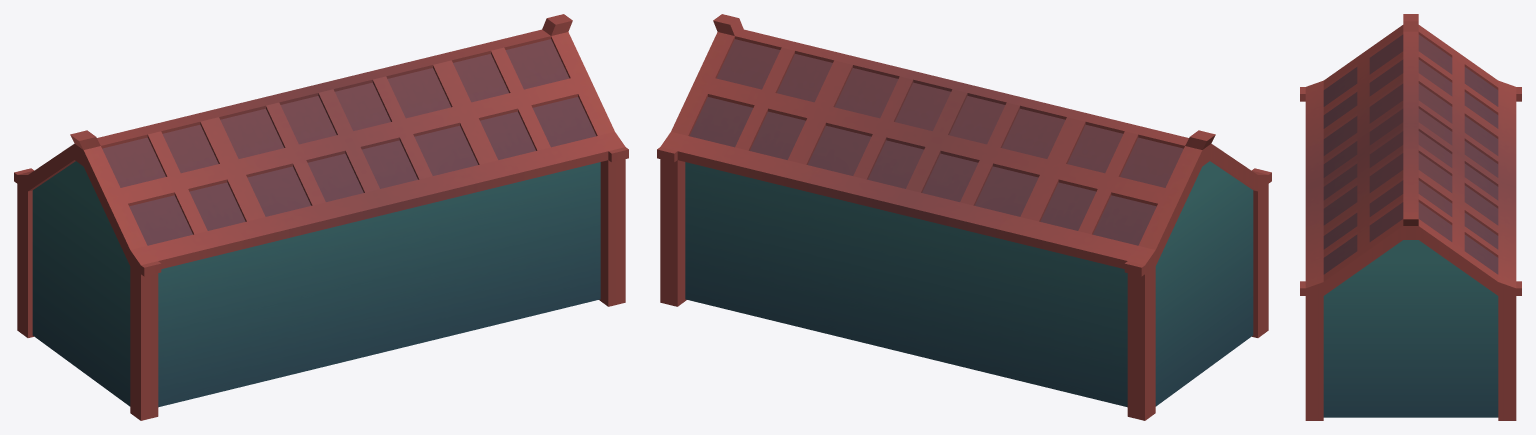
Rendered from ItemProps_BiggerLongerHouse.fbx.
The picture shows the model from 3 angles, left to right: view 1: azimuth 30°, elevation 25°; view 2: azimuth 150°, elevation 25°; view 3: azimuth 270°, elevation 25°; orthographic projection. The views are drawn at different scales.
Visible parts, largest first — view 1: Cube.025, Cube.026; view 2: Cube.025, Cube.026; view 3: Cube.025, Cube.026.
Boxes of the visible parts, <box> form: Cube.025: <box>14,14,628,420</box>; Cube.026: <box>32,161,600,407</box>; Cube.025: <box>657,14,1271,420</box>; Cube.026: <box>685,161,1253,407</box>; Cube.025: <box>1300,14,1521,420</box>; Cube.026: <box>1323,240,1498,417</box>.
Size of the model in its own units: 1376 by 637 by 628.
